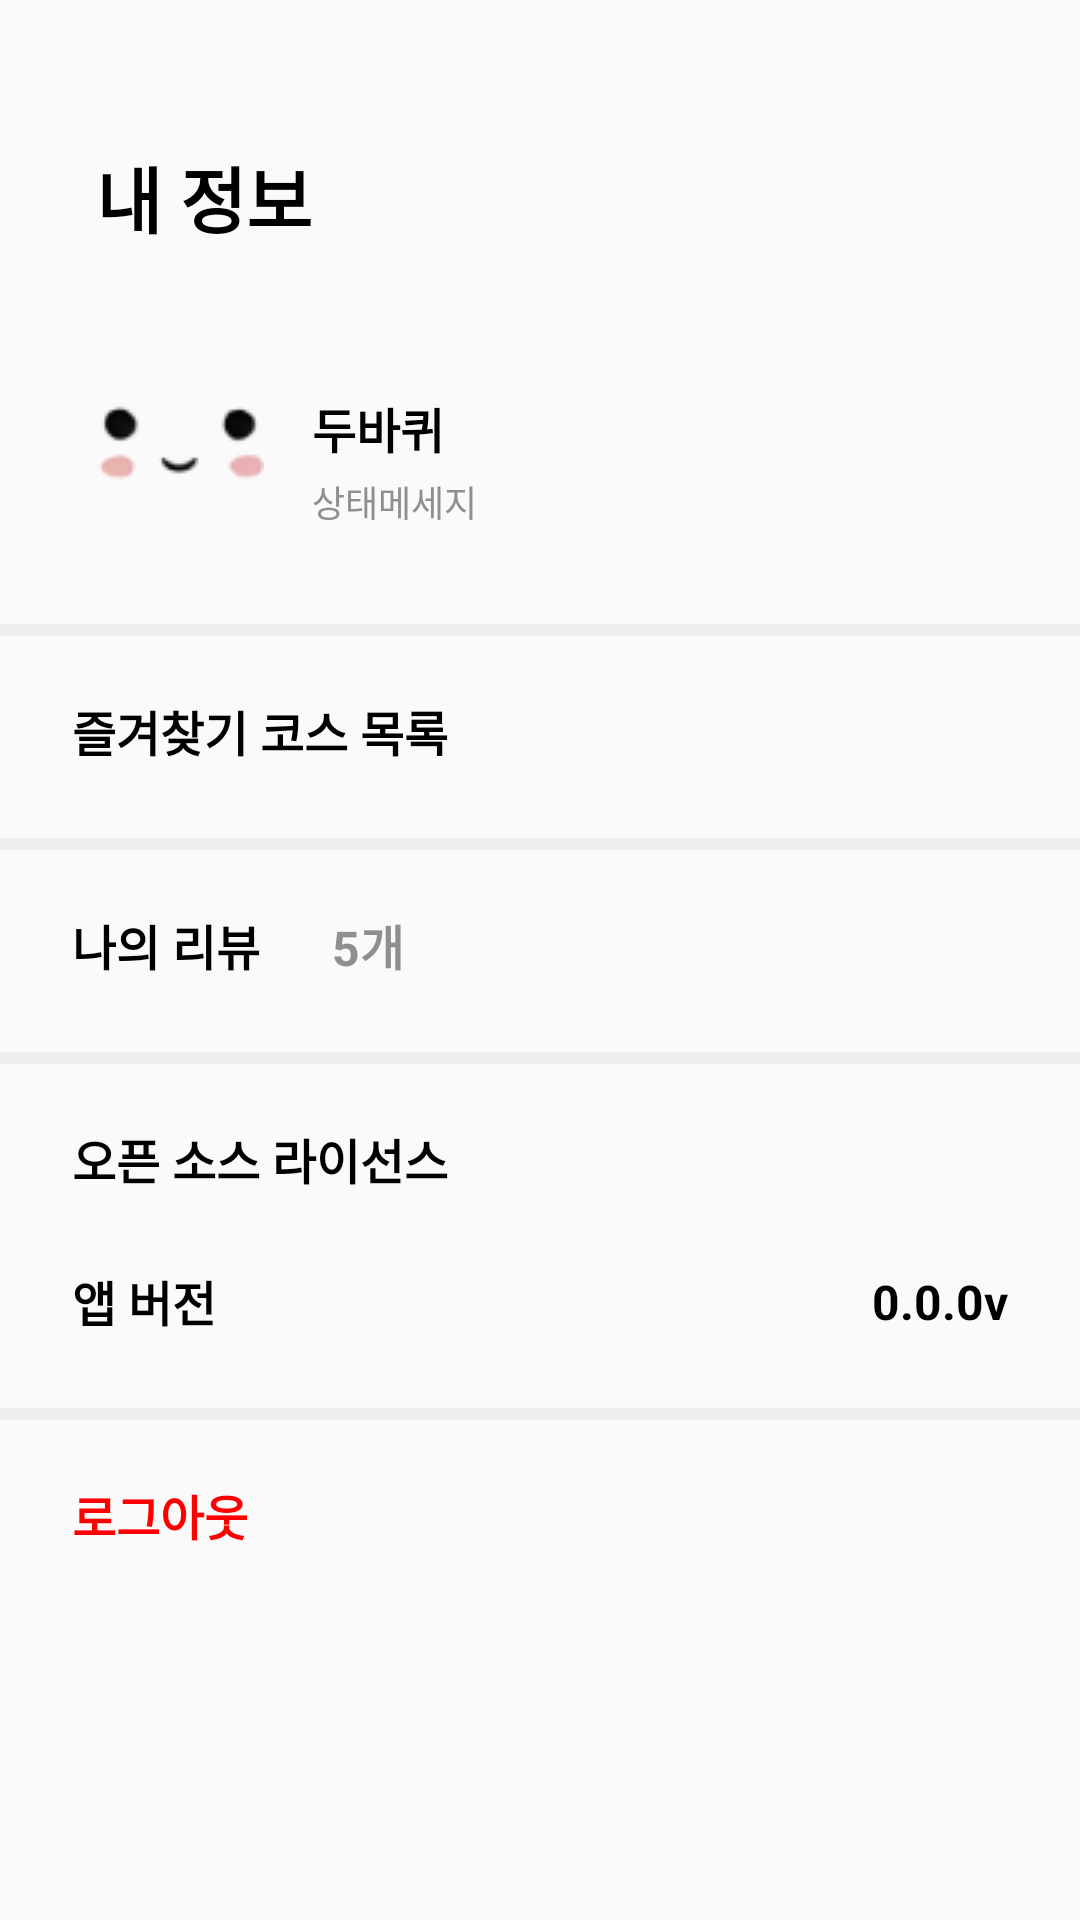

Screen size 1080x1920. Icon name, then its center in pixels as (x,y):
profile: (182,442)
